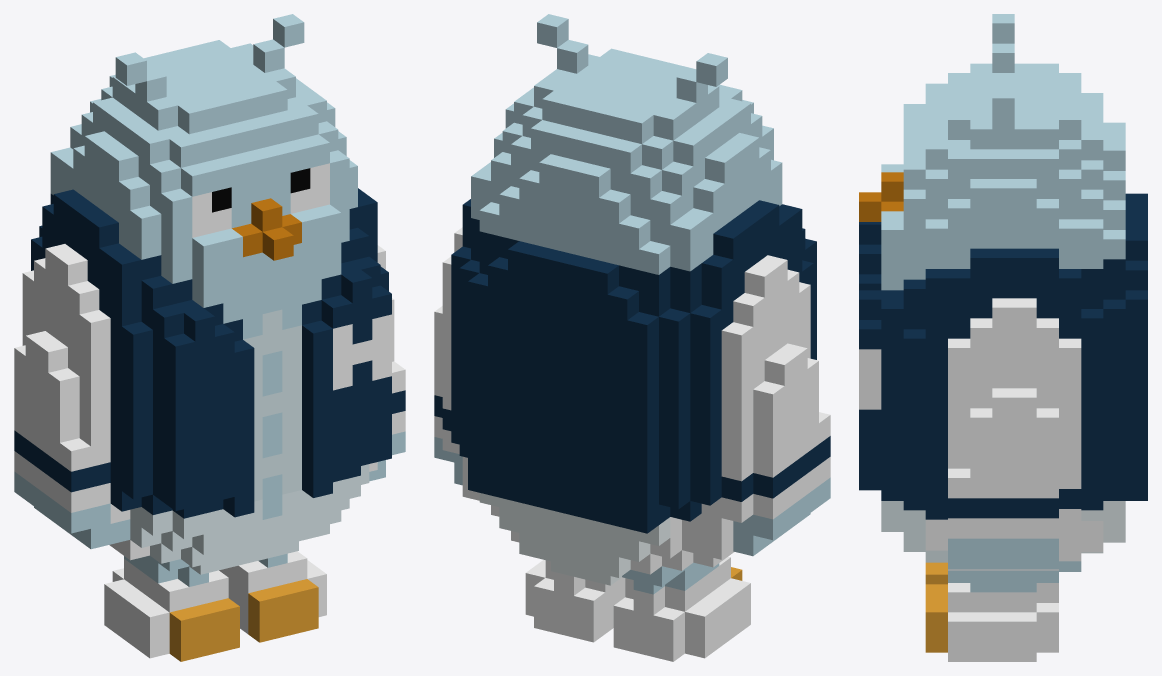
Rendered from Boo_dohyun.obj.
3 views of the same model, side by side, from view 1: azimuth 30°, elevation 25°; view 2: azimuth 150°, elevation 25°; view 3: azimuth 270°, elevation 25° (orthographic). The views are drawn at different scales.
Size of the model in its own units: 1.7 by 2.8 by 1.3.
Materials: 1 (1 with a texture image).
